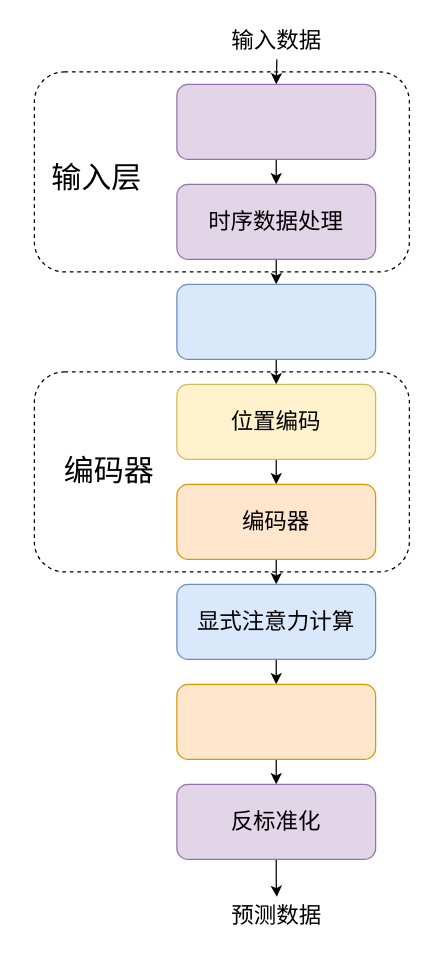
This 431x955 diagram has some shape labels left out. Here are the shapes that lost their labels. From the top down, the centre of each, then its label:
At point 276,121: "数据标准化".
At point 276,321: "层次化特征处理".
At point 276,721: "解码器".
